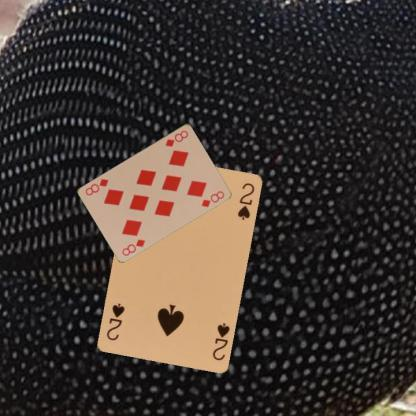2s: (210, 320, 230, 362)
8d: (162, 128, 190, 148), (120, 236, 146, 257)
